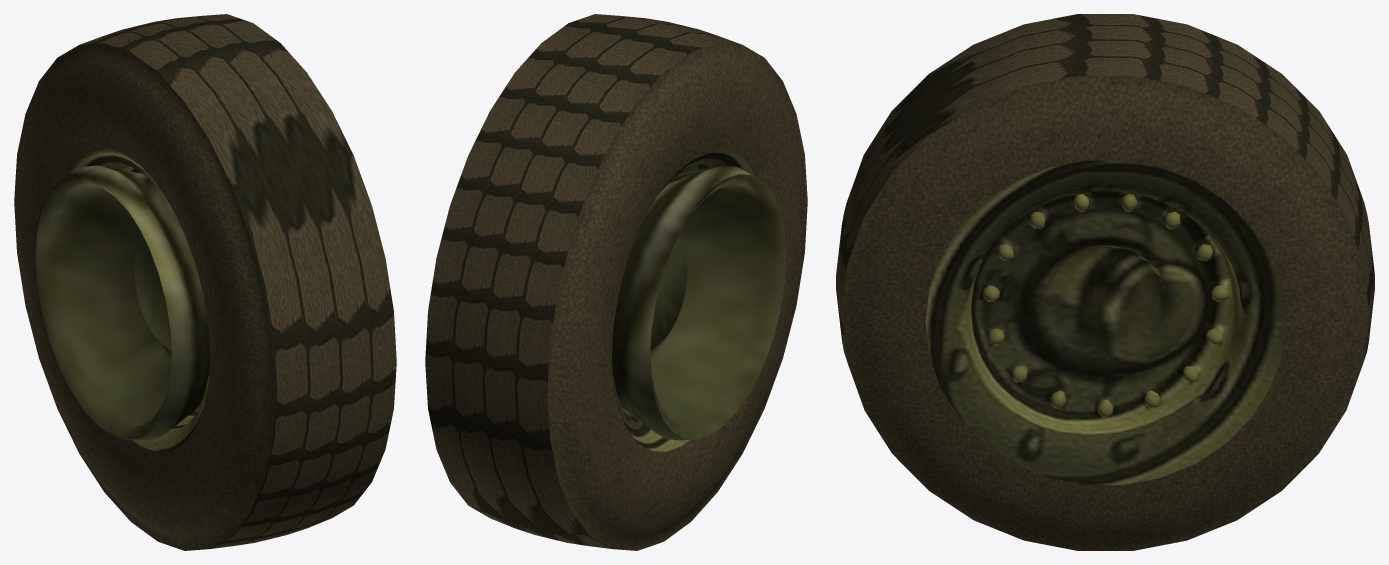
File: llanta_delantera_derecha.obj
3 renders of one model, left to right at view 1: azimuth 30°, elevation 25°; view 2: azimuth 150°, elevation 25°; view 3: azimuth 270°, elevation 25°, orthographic.
Visible parts, largest first — view 1: llanta2_llanta, llanta_llanta2, rin_rin; view 2: llanta2_llanta, llanta_llanta2, rin_rin; view 3: llanta_llanta2, rin_rin, llanta2_llanta.
Part boxes in pixels (bbox=[...]): llanta2_llanta: bbox=[80, 14, 396, 548]; llanta_llanta2: bbox=[14, 43, 274, 550]; rin_rin: bbox=[35, 148, 209, 451]; llanta2_llanta: bbox=[425, 14, 741, 548]; llanta_llanta2: bbox=[547, 43, 807, 550]; rin_rin: bbox=[612, 148, 786, 451]; llanta_llanta2: bbox=[841, 75, 1369, 550]; rin_rin: bbox=[925, 160, 1285, 484]; llanta2_llanta: bbox=[836, 14, 1374, 361].
Size of the model in its own units: 3.18 by 7.96 by 8.01.
